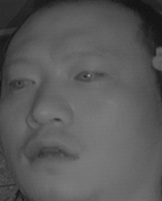eye: (73, 65, 106, 85), (7, 73, 36, 91)
mouth: (22, 132, 82, 174)
